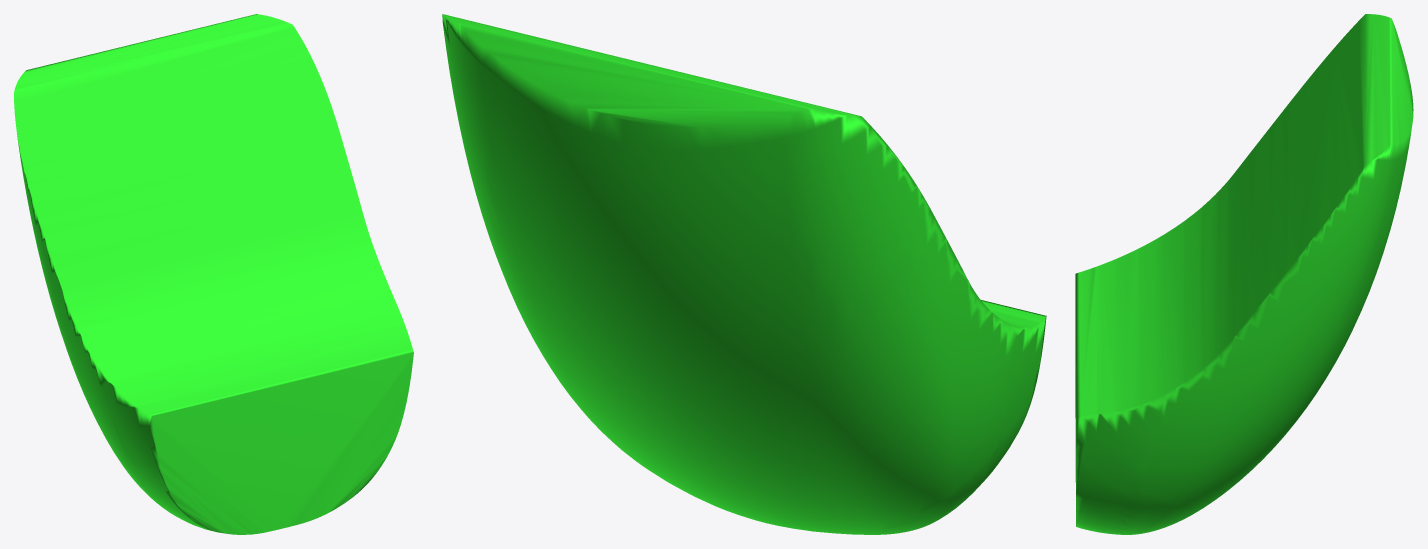
File: right_elastomer_HB1_TH_33ff33.glb
The picture shows the model from 3 angles, left to right: view 1: azimuth 30°, elevation 25°; view 2: azimuth 150°, elevation 25°; view 3: azimuth 270°, elevation 25°; orthographic projection. The views are drawn at different scales.
Parts seen in each view (by area): view 1: elastomer_HB1_TH_0; view 2: elastomer_HB1_TH_0; view 3: elastomer_HB1_TH_0.
Boxes of the visible parts, x1,y1,x2,y2 form: elastomer_HB1_TH_0: (14, 14, 413, 534); elastomer_HB1_TH_0: (442, 14, 1046, 534); elastomer_HB1_TH_0: (1075, 14, 1413, 534).
Bounding box in the file's own units: 0.0163 × 0.0197 × 0.0141.
